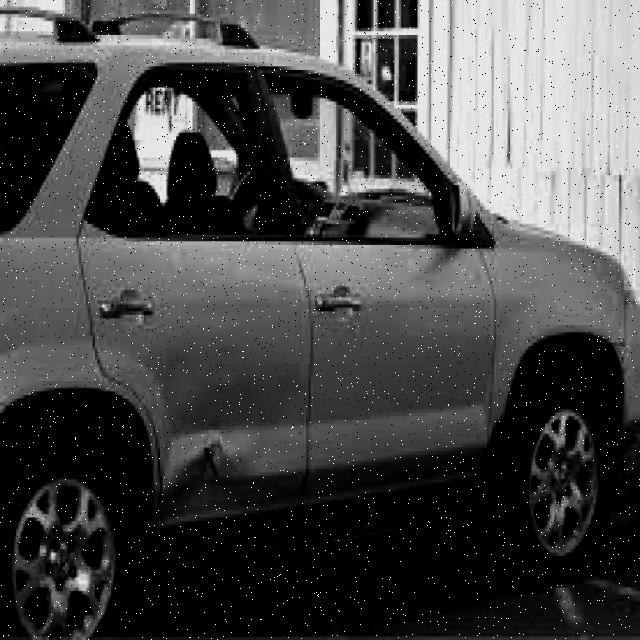car damage: (187, 428, 238, 502)
